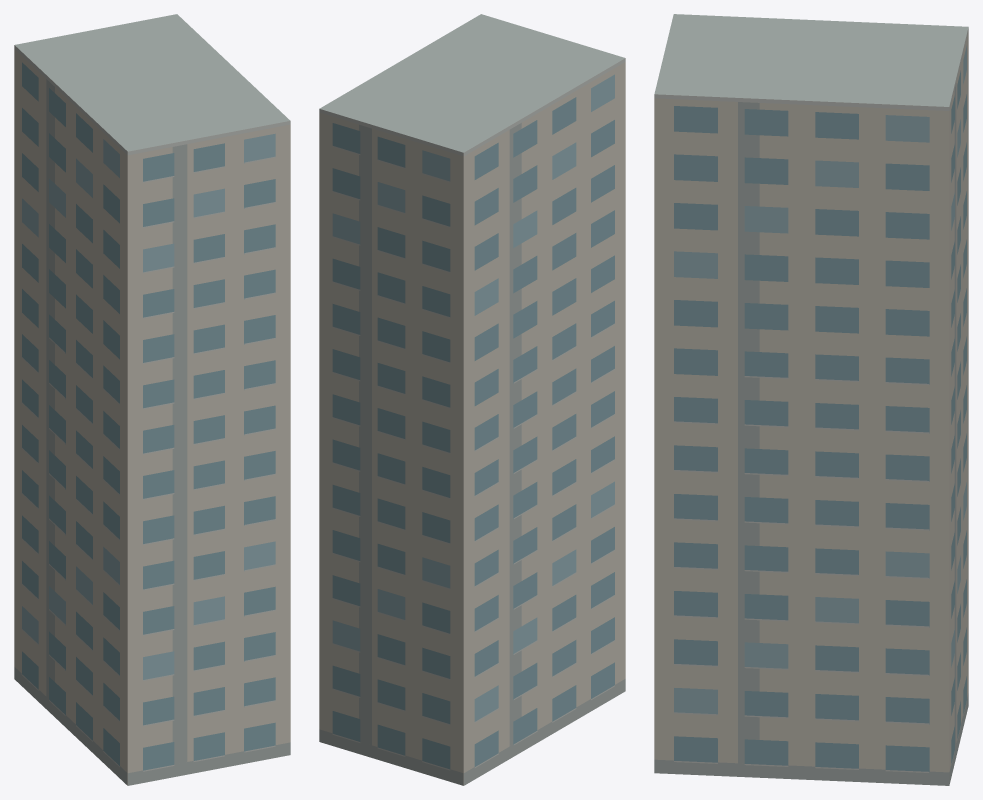
The model's file is residential-46102fbb-439f-4b0b-87e8-fc0497781bf3.glb.
3 views of the same model, side by side, from view 1: azimuth 30°, elevation 25°; view 2: azimuth 150°, elevation 25°; view 3: azimuth 270°, elevation 25° (orthographic). The views are drawn at different scales.
Parts seen in each view (by area): view 1: residential-46102fbb-439f-4b0b-87e8-fc0497781bf3.tmp; view 2: residential-46102fbb-439f-4b0b-87e8-fc0497781bf3.tmp; view 3: residential-46102fbb-439f-4b0b-87e8-fc0497781bf3.tmp.
Part boxes in pixels (x1=…): residential-46102fbb-439f-4b0b-87e8-fc0497781bf3.tmp: x1=14, y1=14, x2=290, y2=785; residential-46102fbb-439f-4b0b-87e8-fc0497781bf3.tmp: x1=319, y1=14, x2=625, y2=785; residential-46102fbb-439f-4b0b-87e8-fc0497781bf3.tmp: x1=654, y1=14, x2=968, y2=785.
Bounding box in the file's own units: 12.06 × 41 × 17.21.
